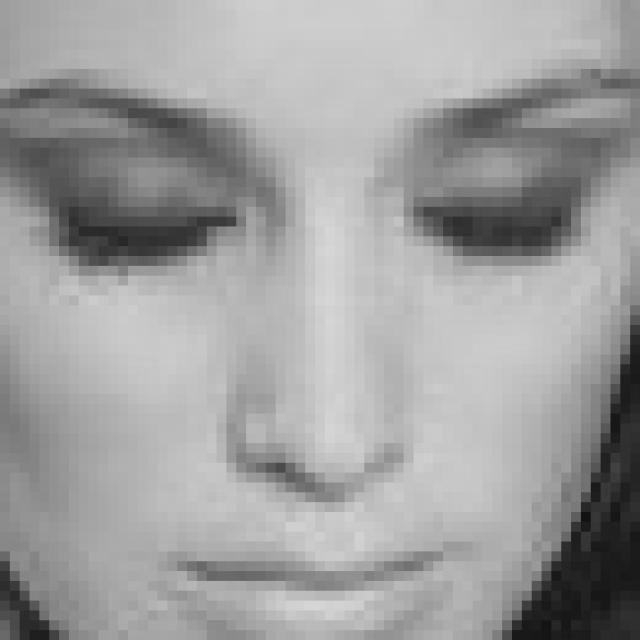real: (2, 6, 626, 628), (50, 118, 578, 291)
